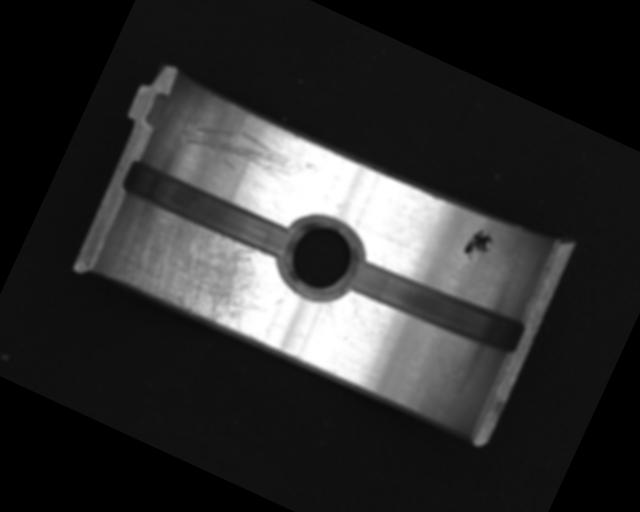blot: (460, 224, 499, 266)
gap: (342, 245, 533, 365), (118, 155, 297, 264)
hole: (268, 208, 371, 309)
nick: (181, 107, 320, 203), (314, 297, 353, 340)
scratch: (101, 194, 291, 344)
